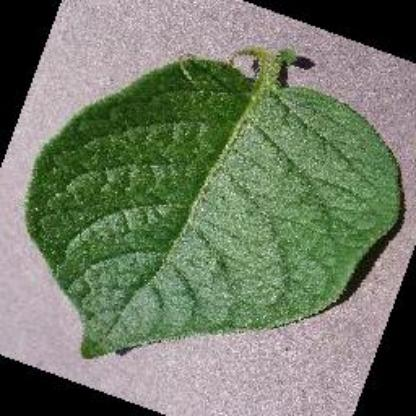Healthy-plant: (38, 52, 400, 356)
